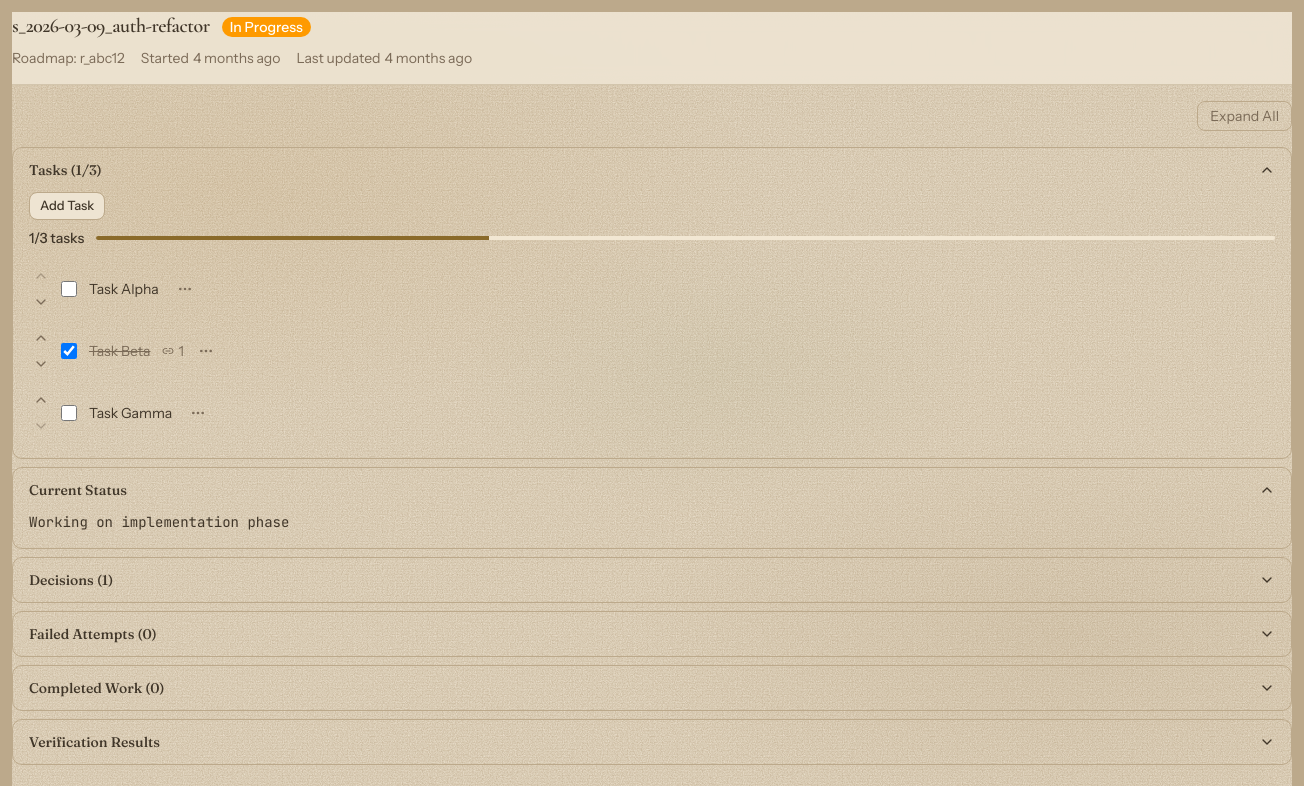
Test: SessionView CRUD integration › currentStatus section shows editable textarea
# Click to enter edit mode (pencil icon or text click)
Click the text "Working on implementation phase".
click(159, 522)  # box [29,513,289,531]
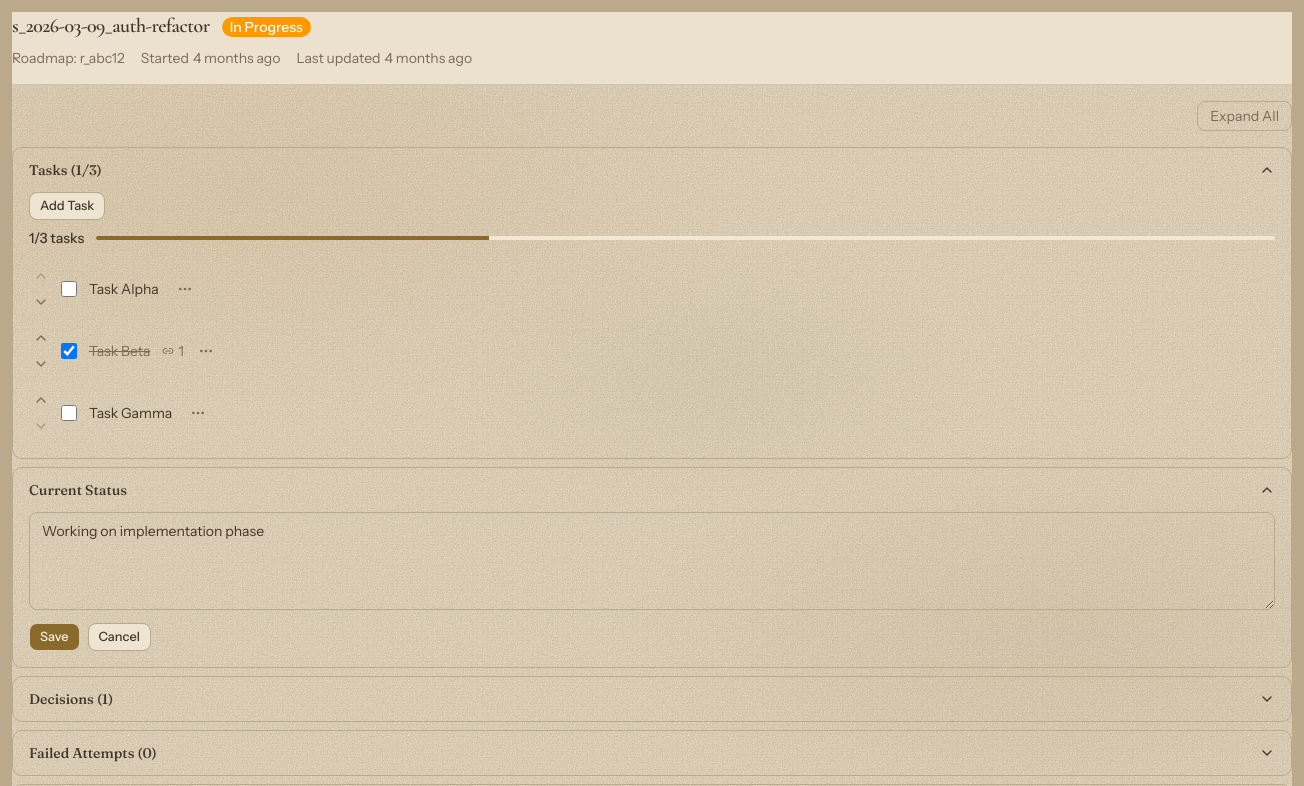
Check: the text box holds "Working on implementation phase", box [29,512,1275,610]
